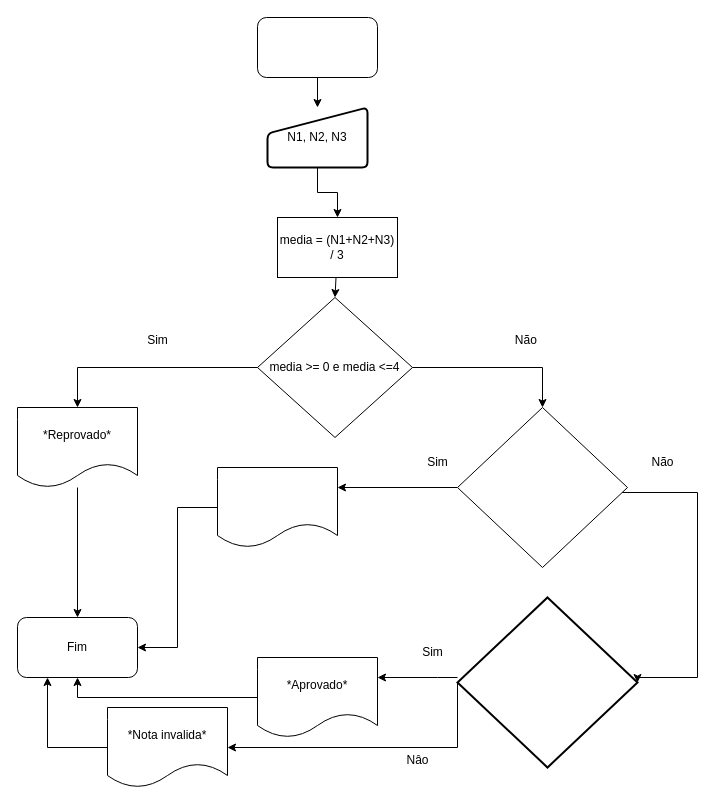
This 723x805 diagram has some shape labels left out. Each missing label, with the centre of its shape:
*Recuperação*: the point at 277,507
inicio: the point at 317,47
media > 5 e media <=6: the point at 542,487
media >=7 e media <=10: the point at 547,682
